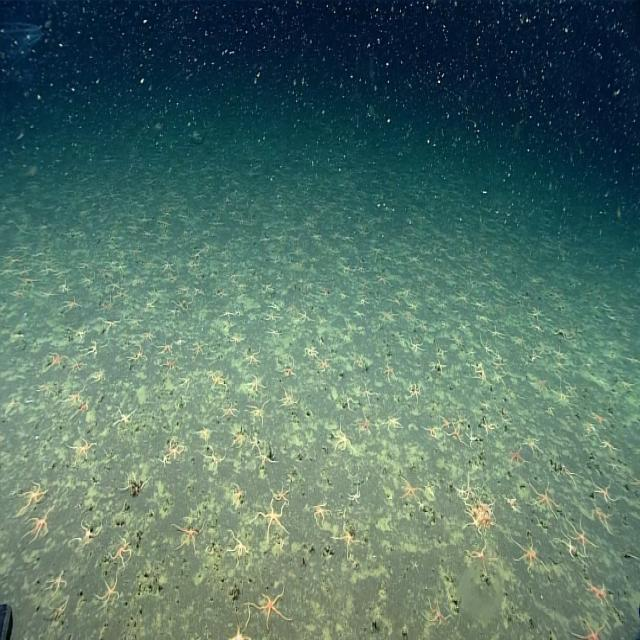brittle-stars: (244, 591, 295, 632), (510, 534, 552, 578), (554, 524, 590, 569), (462, 492, 502, 532), (564, 513, 598, 558), (252, 503, 290, 543), (527, 474, 560, 520), (418, 588, 453, 631), (465, 536, 501, 576), (172, 516, 204, 556), (13, 482, 48, 518), (69, 515, 103, 550), (64, 434, 98, 469), (588, 472, 624, 504), (331, 416, 359, 457), (331, 523, 360, 560), (581, 572, 610, 608), (92, 574, 120, 611), (570, 613, 608, 640), (226, 529, 250, 569), (21, 512, 48, 546), (548, 379, 579, 408), (399, 472, 424, 507), (443, 415, 470, 447), (554, 463, 586, 490), (108, 534, 133, 568), (231, 419, 255, 452), (454, 472, 480, 502), (43, 568, 68, 598), (246, 399, 270, 428), (276, 384, 301, 410), (110, 405, 139, 427), (256, 446, 280, 472), (244, 369, 269, 393), (43, 597, 68, 621), (202, 446, 227, 470), (41, 352, 69, 373), (586, 406, 610, 430), (311, 500, 332, 527), (508, 444, 531, 468), (339, 386, 360, 412), (190, 424, 217, 444), (356, 415, 378, 439), (68, 398, 90, 422), (128, 473, 154, 493), (157, 355, 183, 375), (94, 293, 116, 315), (502, 491, 523, 514), (550, 322, 574, 342), (218, 398, 240, 419), (75, 339, 98, 359), (116, 473, 139, 493), (230, 480, 244, 512), (154, 337, 175, 358), (377, 304, 400, 323), (2, 393, 21, 416), (359, 378, 374, 406), (61, 295, 83, 314), (485, 321, 507, 340), (406, 378, 422, 404), (211, 366, 229, 389), (278, 355, 296, 378), (598, 436, 622, 453), (378, 361, 397, 382), (468, 362, 486, 384), (100, 316, 122, 334), (218, 306, 241, 323), (480, 331, 495, 357), (126, 346, 148, 363), (77, 268, 96, 287), (243, 345, 261, 365), (288, 240, 308, 258), (420, 423, 441, 440), (249, 432, 265, 454), (382, 415, 404, 431), (271, 484, 290, 502), (530, 374, 548, 393), (169, 439, 185, 460), (158, 256, 176, 274), (16, 277, 42, 289), (134, 328, 156, 342), (408, 336, 427, 352), (68, 357, 88, 372), (36, 380, 56, 395), (464, 427, 478, 448), (525, 305, 542, 322), (429, 359, 447, 375), (448, 332, 466, 348), (404, 250, 422, 266), (453, 288, 471, 304), (491, 368, 506, 387), (185, 249, 204, 264), (347, 484, 361, 504), (482, 416, 496, 436), (263, 309, 284, 322), (316, 355, 332, 372), (88, 367, 105, 383), (187, 340, 204, 356), (552, 354, 569, 370), (374, 272, 392, 287), (112, 287, 130, 302), (31, 290, 58, 300), (616, 376, 636, 389), (354, 294, 370, 310), (404, 296, 420, 312), (369, 246, 385, 262), (471, 297, 487, 313), (176, 208, 192, 224), (304, 344, 319, 361), (230, 332, 247, 347), (70, 325, 87, 340), (526, 348, 544, 362), (297, 308, 313, 323), (343, 316, 355, 335), (144, 296, 158, 311), (178, 375, 192, 390), (351, 353, 363, 370), (339, 261, 356, 273), (159, 452, 170, 470), (261, 281, 275, 295), (436, 342, 448, 358), (112, 262, 128, 274), (337, 287, 351, 300), (358, 279, 371, 293), (329, 228, 342, 242), (59, 279, 72, 293), (465, 344, 476, 360), (351, 310, 368, 320), (8, 288, 25, 298), (357, 223, 371, 235), (190, 284, 205, 295), (396, 286, 414, 295), (266, 326, 282, 336), (410, 558, 419, 575), (227, 272, 245, 280), (215, 288, 228, 299), (435, 298, 448, 309), (408, 418, 418, 432), (260, 230, 270, 244), (514, 334, 526, 345), (458, 320, 468, 333), (480, 373, 490, 386), (545, 403, 555, 416), (317, 290, 333, 298), (139, 229, 157, 236), (316, 336, 326, 348), (423, 247, 432, 257), (311, 232, 322, 240), (310, 255, 321, 263), (406, 215, 414, 225), (358, 263, 366, 273)
